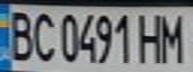0: (57, 9, 78, 63)
1: (112, 10, 136, 64)
4: (75, 10, 96, 63)
9: (93, 10, 115, 64)
B: (3, 7, 36, 63)
C: (27, 8, 57, 63)
H: (136, 10, 169, 64)
M: (154, 10, 190, 64)
